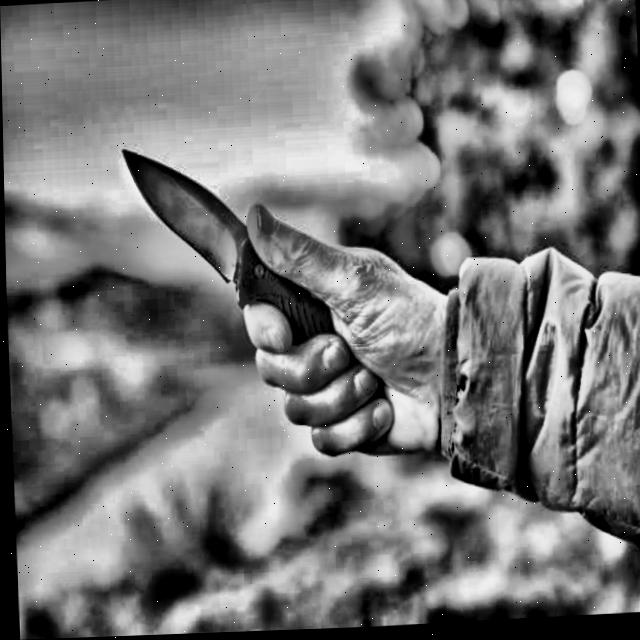pisau: (111, 111, 426, 460)
